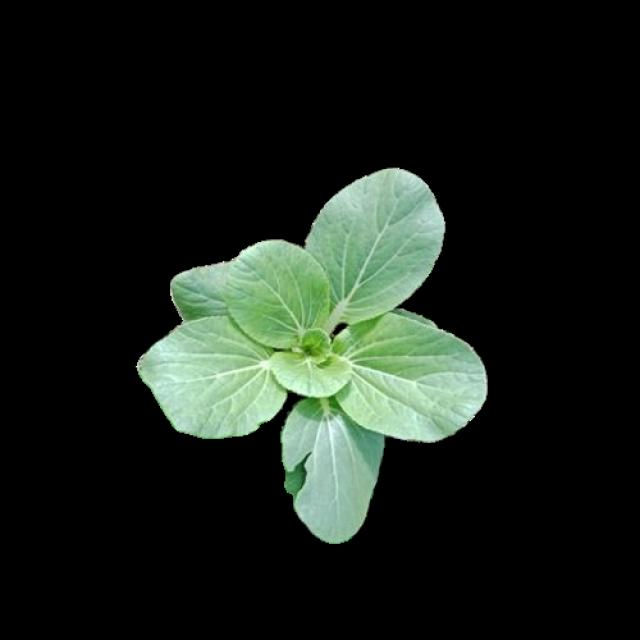not-mature: (139, 169, 484, 545)
unhealthy: (279, 397, 385, 543)
